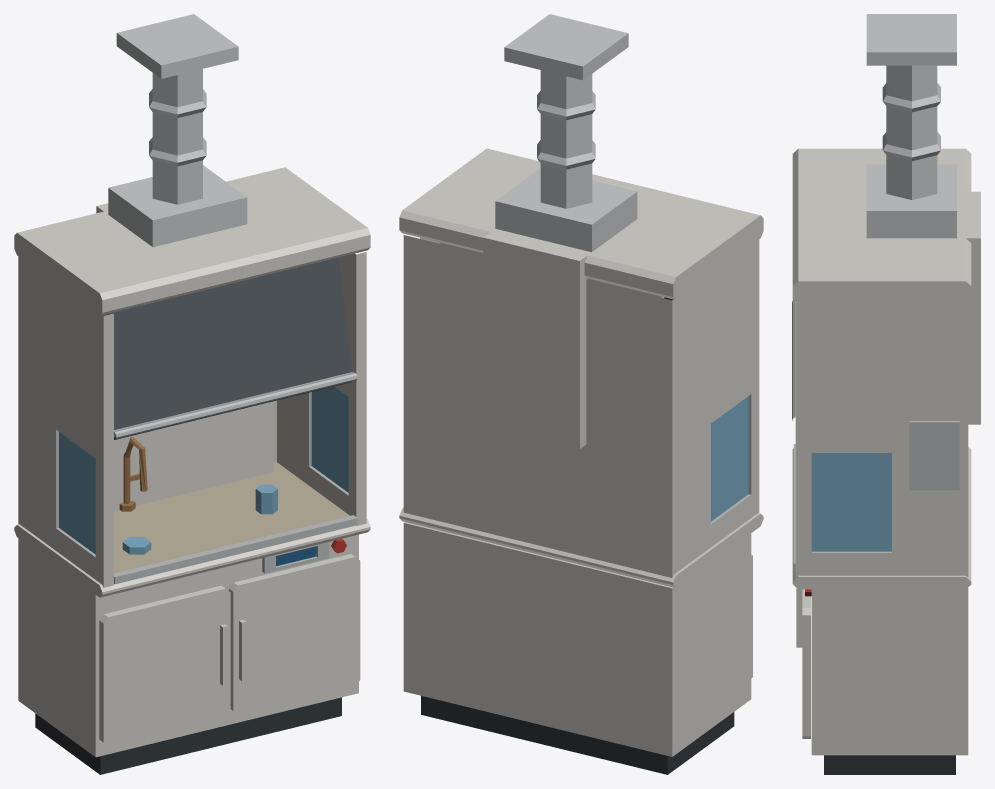
Rendered from fume-cupboard-af81b4.glb.
The picture shows the model from 3 angles, left to right: view 1: azimuth 30°, elevation 25°; view 2: azimuth 150°, elevation 25°; view 3: azimuth 270°, elevation 25°; orthographic projection. The views are drawn at different scales.
Visible parts, largest first — view 1: cupboard, sash-mesh, door-l-mesh, door-r-mesh; view 2: cupboard; view 3: cupboard, door-r-mesh, sash-mesh.
Boxes of the visible parts, x1=… form: cupboard: x1=14, y1=14, x2=370, y2=774; sash-mesh: x1=102, y1=257, x2=357, y2=439; door-l-mesh: x1=99, y1=585, x2=230, y2=746; door-r-mesh: x1=229, y1=554, x2=360, y2=714; cupboard: x1=399, y1=14, x2=763, y2=774; cupboard: x1=792, y1=14, x2=980, y2=774; door-r-mesh: x1=796, y1=588, x2=810, y2=738; sash-mesh: x1=792, y1=299, x2=796, y2=420.
Size of the model in its own units: 1.25 by 3 by 0.7528.
